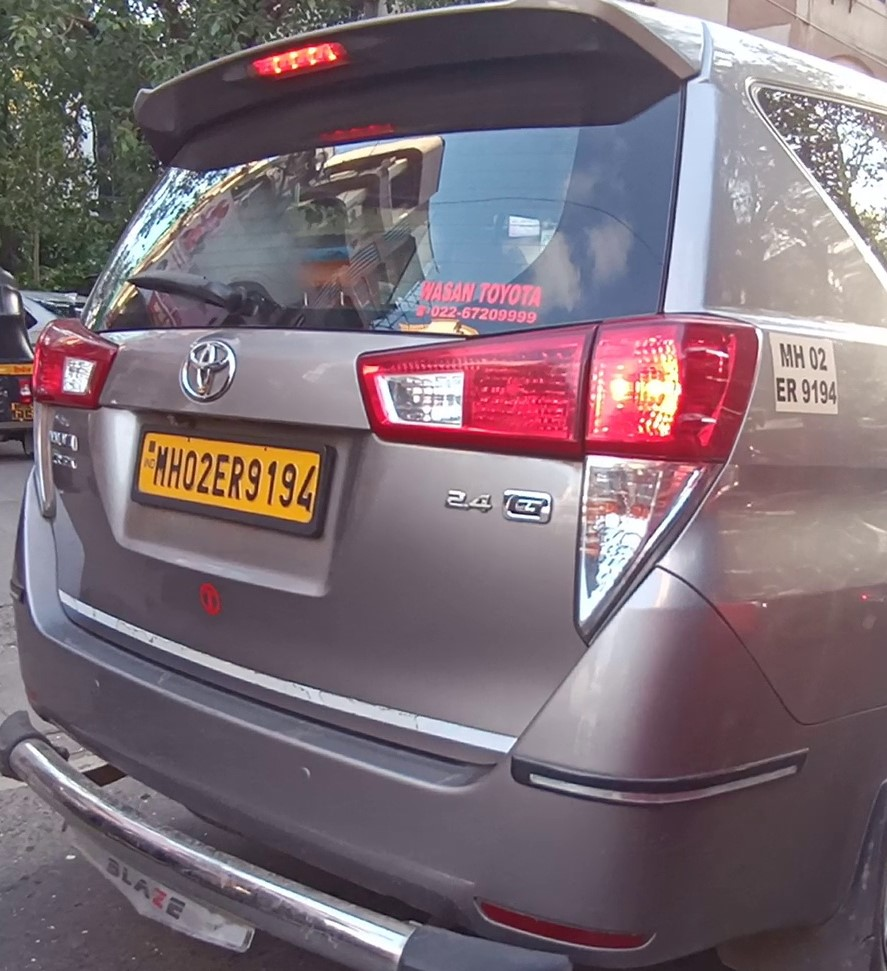MH02ER9194: (137, 426, 320, 527)
